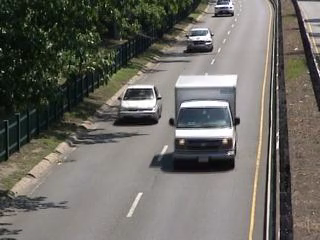car: (115, 84, 164, 127), (183, 26, 216, 56), (212, 1, 237, 19)
truck: (169, 72, 243, 173)
